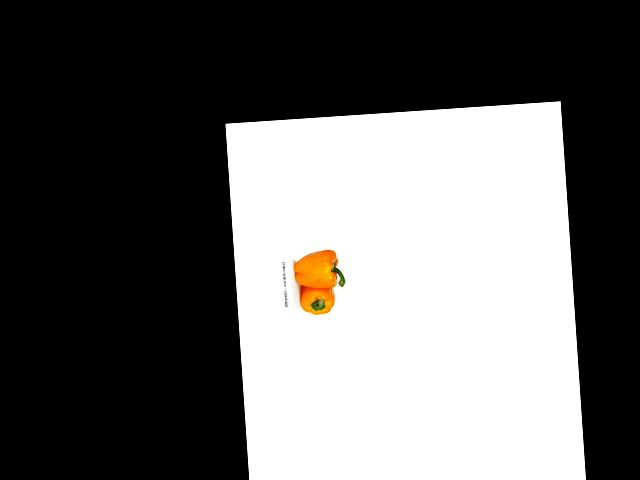bell_pepper: (297, 282, 338, 316)
